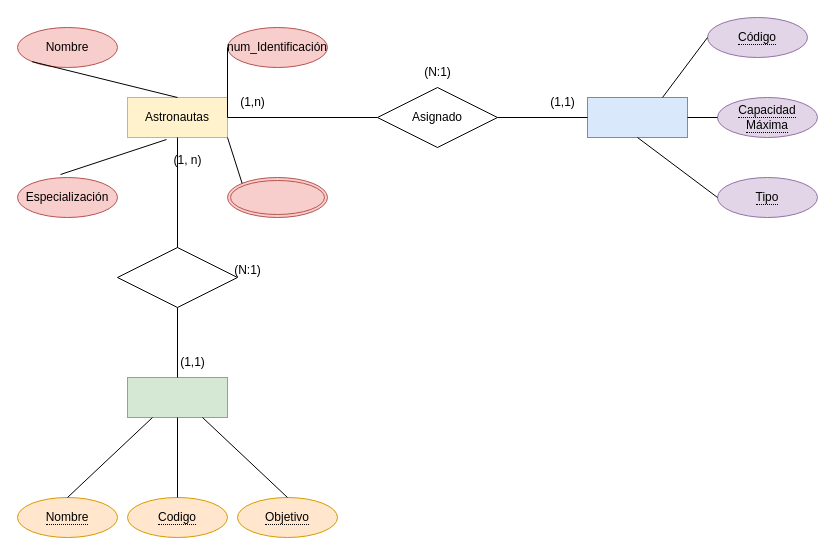
Some shapes in this 835 by 555 pixel diagram are drawn without their labels. Here are the shapes that lost their labels. From the top down, the centre of each, then its label:
At (637,117): "Módulos Habitacionales".
At (277,197): "Nacionalidad".
At (177,277): "Participa".
At (177,397): "Proyectos Cientificos".
